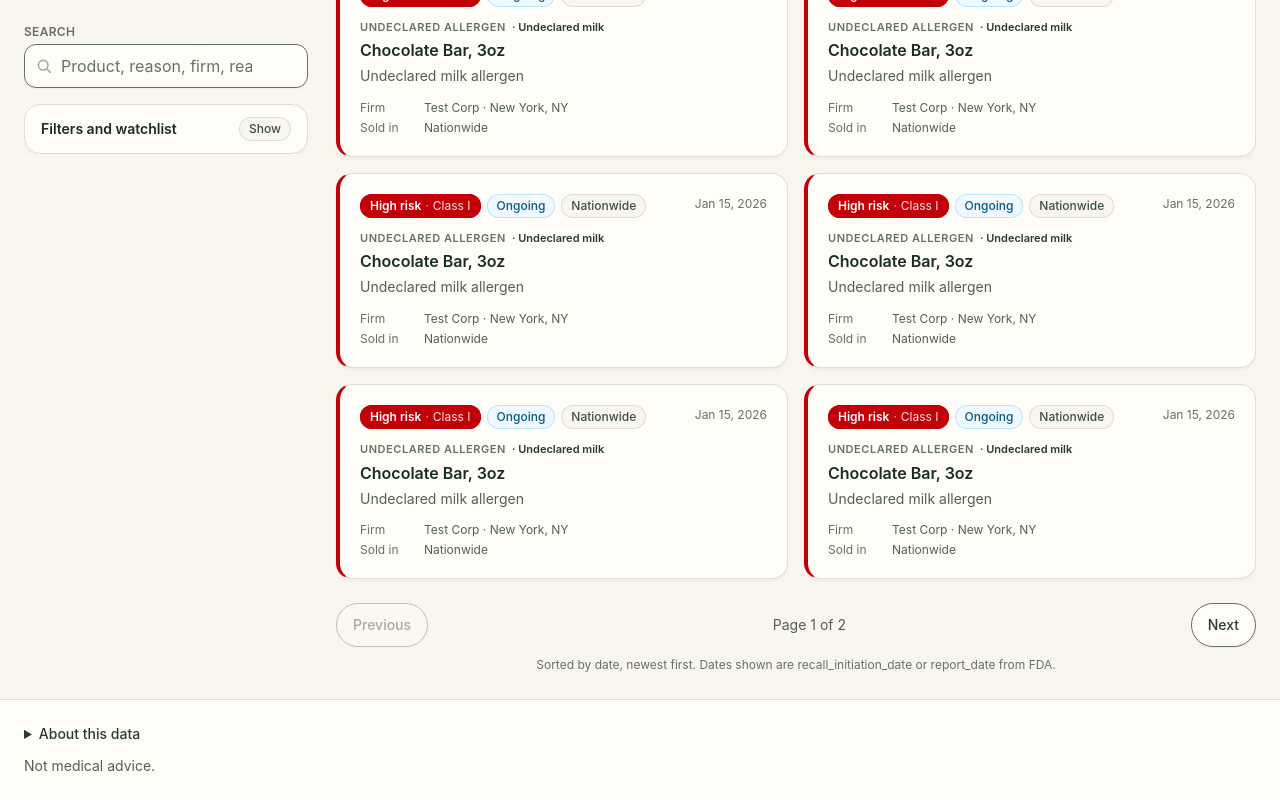
App search and pagination › navigates pages with Next and Previous buttons
(page scrolled)
Expected: the text "Page 1 of 2" is shown, left=773, top=615, right=846, bottom=635
Click the button "Next" at (1223, 625), box left=1191, top=603, right=1256, bottom=647
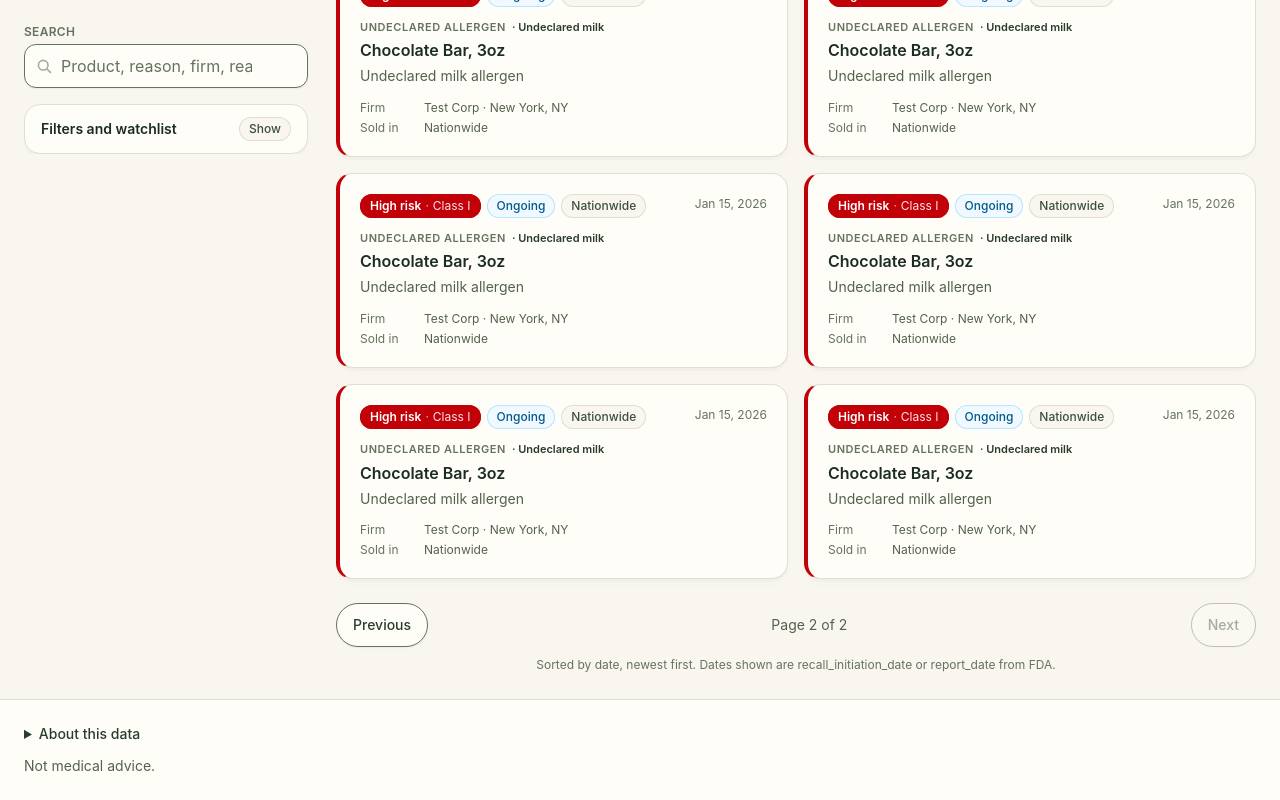
Result: the text "Page 2 of 2" is shown at left=771, top=615, right=847, bottom=635
Click the button "Previous" at (382, 625), box left=336, top=603, right=428, bottom=647
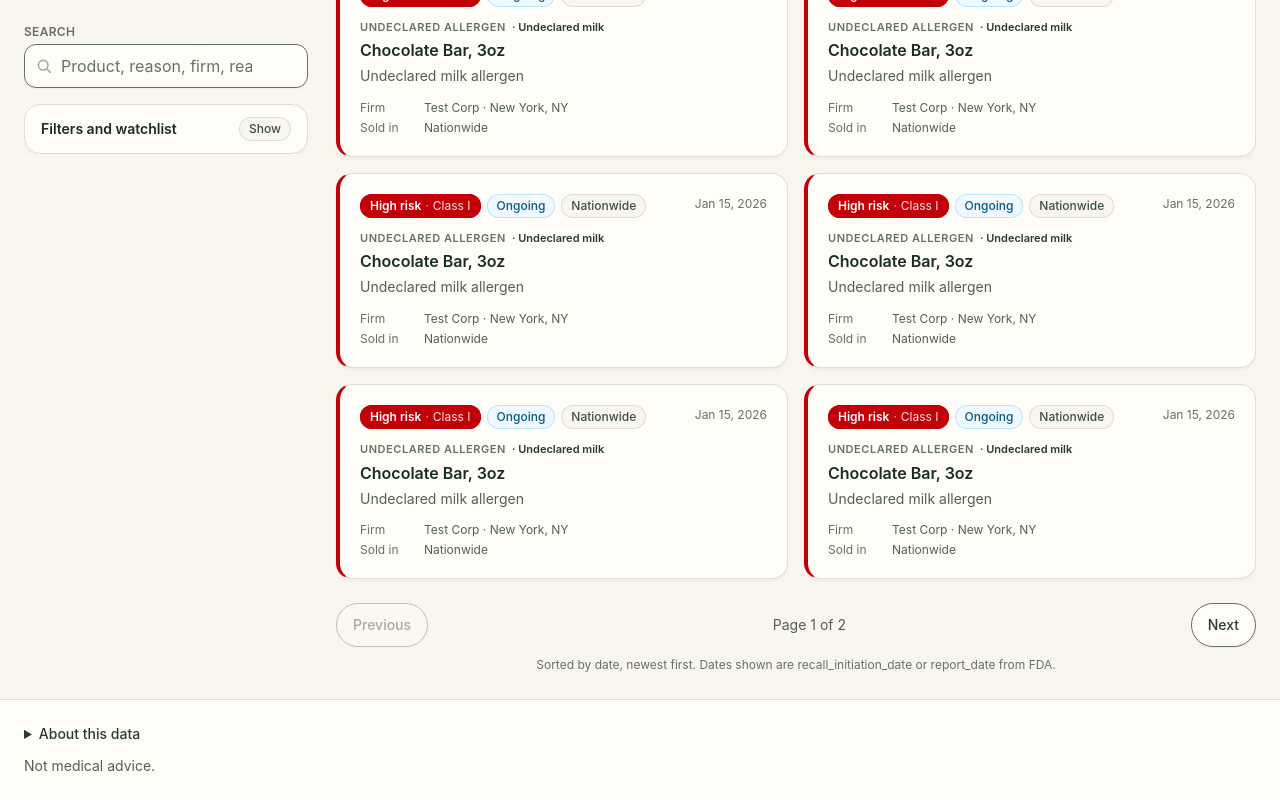
Result: the text "Page 1 of 2" is shown at left=773, top=615, right=846, bottom=635
